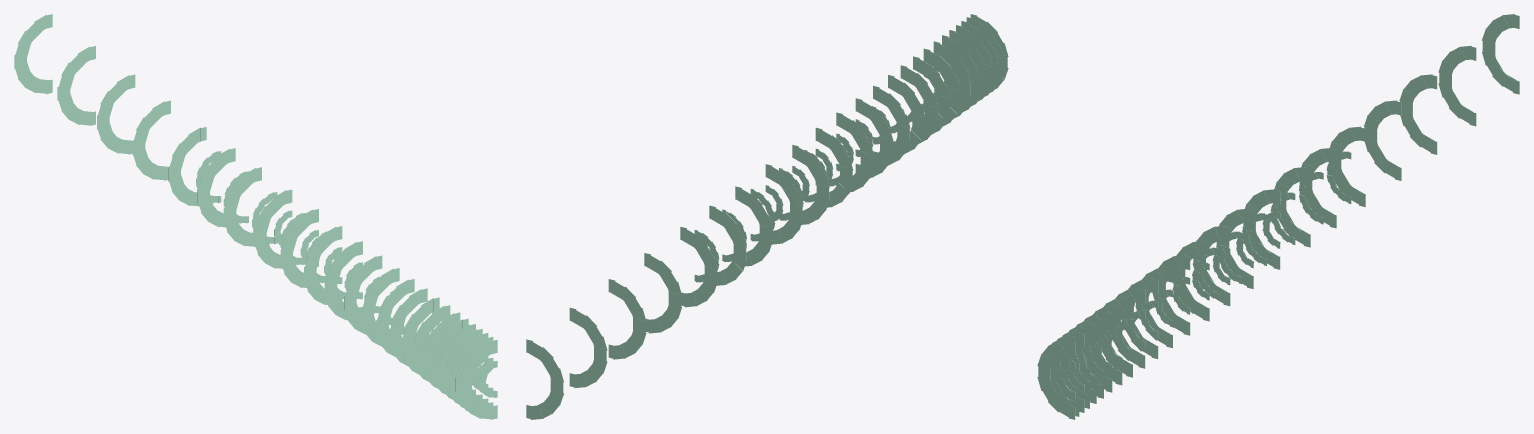
Rendered from ITK-Pixel-Layout-Inner-Endcap-SideC-cut2.glb.
3 views of the same model, side by side, from view 1: azimuth 30°, elevation 25°; view 2: azimuth 150°, elevation 25°; view 3: azimuth 330°, elevation 25° (orthographic).
Visible parts, largest first — view 1: ITK_Pixel_Layout_Inner_Endcap_SideC Cut 2; view 2: ITK_Pixel_Layout_Inner_Endcap_SideC Cut 2; view 3: ITK_Pixel_Layout_Inner_Endcap_SideC Cut 2.
Part boxes in pixels (<box>): ITK_Pixel_Layout_Inner_Endcap_SideC Cut 2: <box>14,14,497,419</box>; ITK_Pixel_Layout_Inner_Endcap_SideC Cut 2: <box>526,14,1008,419</box>; ITK_Pixel_Layout_Inner_Endcap_SideC Cut 2: <box>1037,14,1519,419</box>.
Bounding box in the file's own units: 0.1211 × 0.2422 × 2.47.
